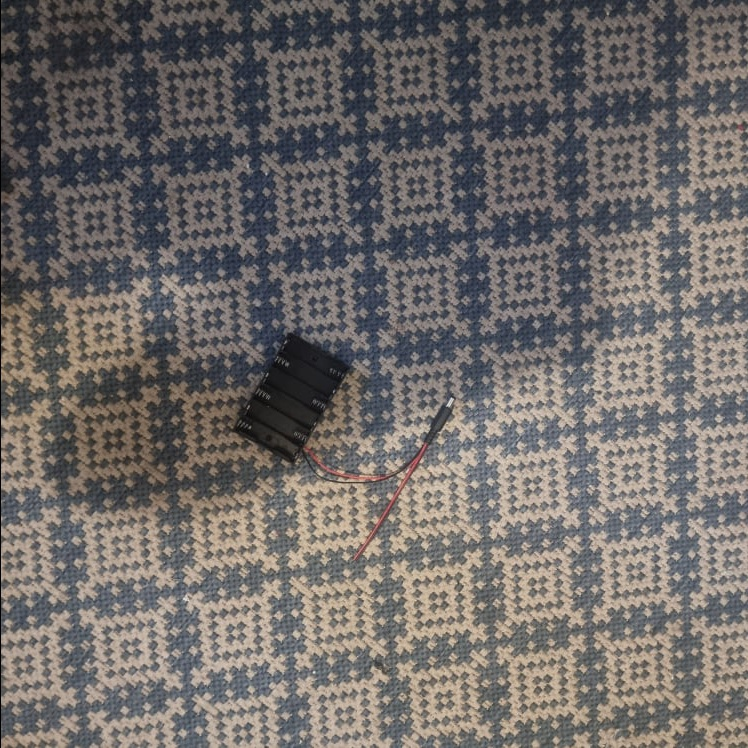BATTERY BOX: (230, 331, 348, 464)
